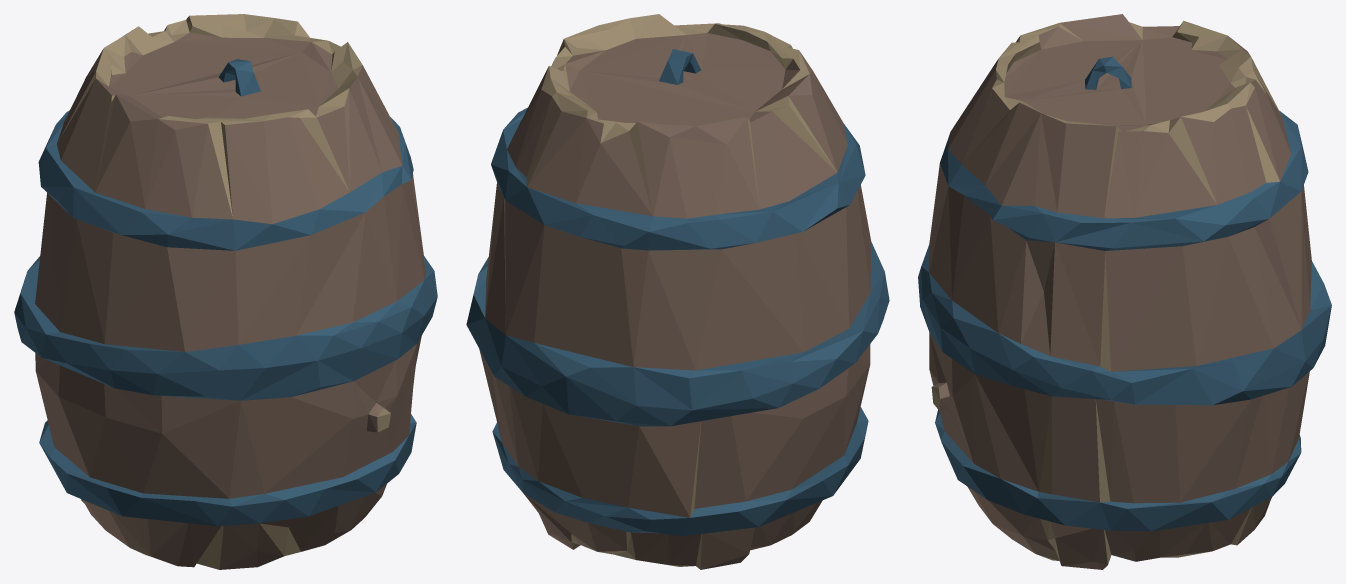
File: Medieval_Barrel.FBX
3 views of the same model, side by side, from view 1: azimuth 30°, elevation 25°; view 2: azimuth 150°, elevation 25°; view 3: azimuth 270°, elevation 25° (orthographic).
Visible parts, largest first — view 1: Medieval_Containers_Barrel_LOD0; view 2: Medieval_Containers_Barrel_LOD0; view 3: Medieval_Containers_Barrel_LOD0.
Part boxes in pixels (<box>): Medieval_Containers_Barrel_LOD0: <box>14,14,437,569</box>; Medieval_Containers_Barrel_LOD0: <box>466,14,889,569</box>; Medieval_Containers_Barrel_LOD0: <box>918,14,1331,569</box>.
Size of what is drawn, in the model's own units: 0.8809 by 1.04 by 0.8631.
